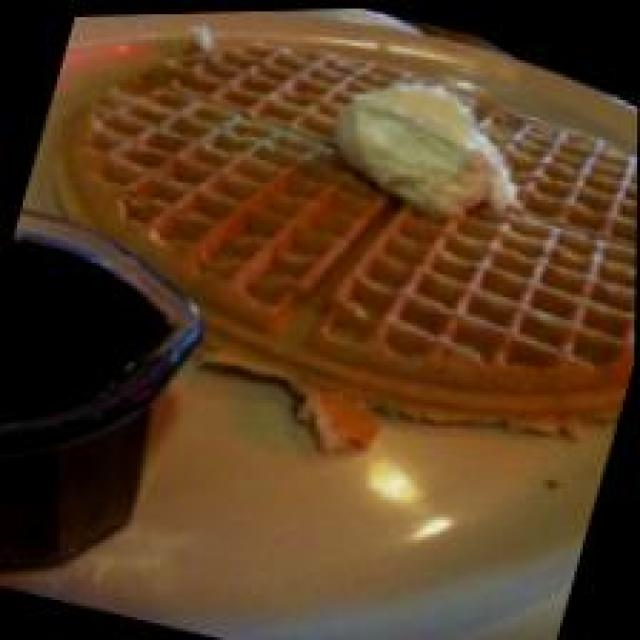Waffles: (0, 0, 640, 529)
